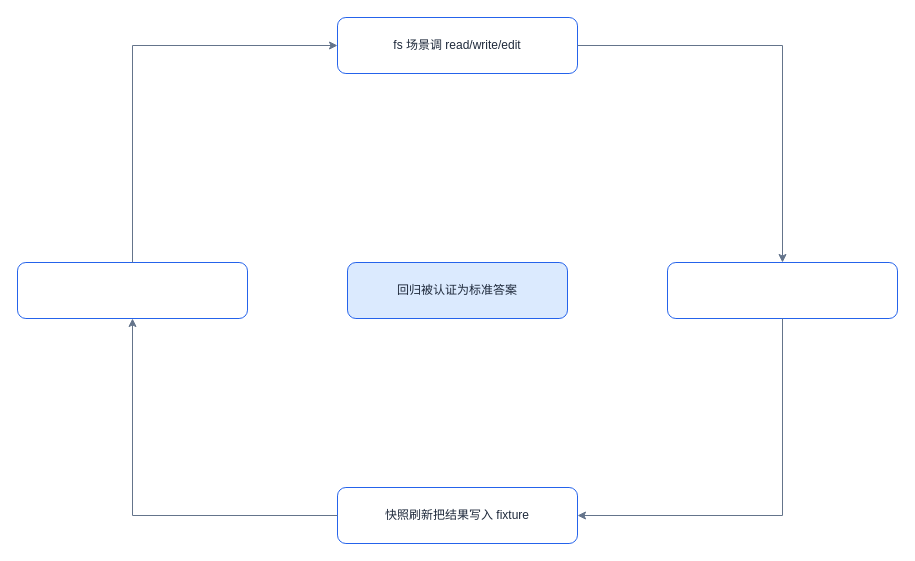
This 915x561 diagram has some shape labels left out. The shapes that lost their labels are listed below. From the top down, each one's centre as x and y in pixels, then its label:
At point (132, 290): "下次断言通过 ✓ 全绿".
At point (782, 290): "UNKNOWN_TOOL 结果返回".
